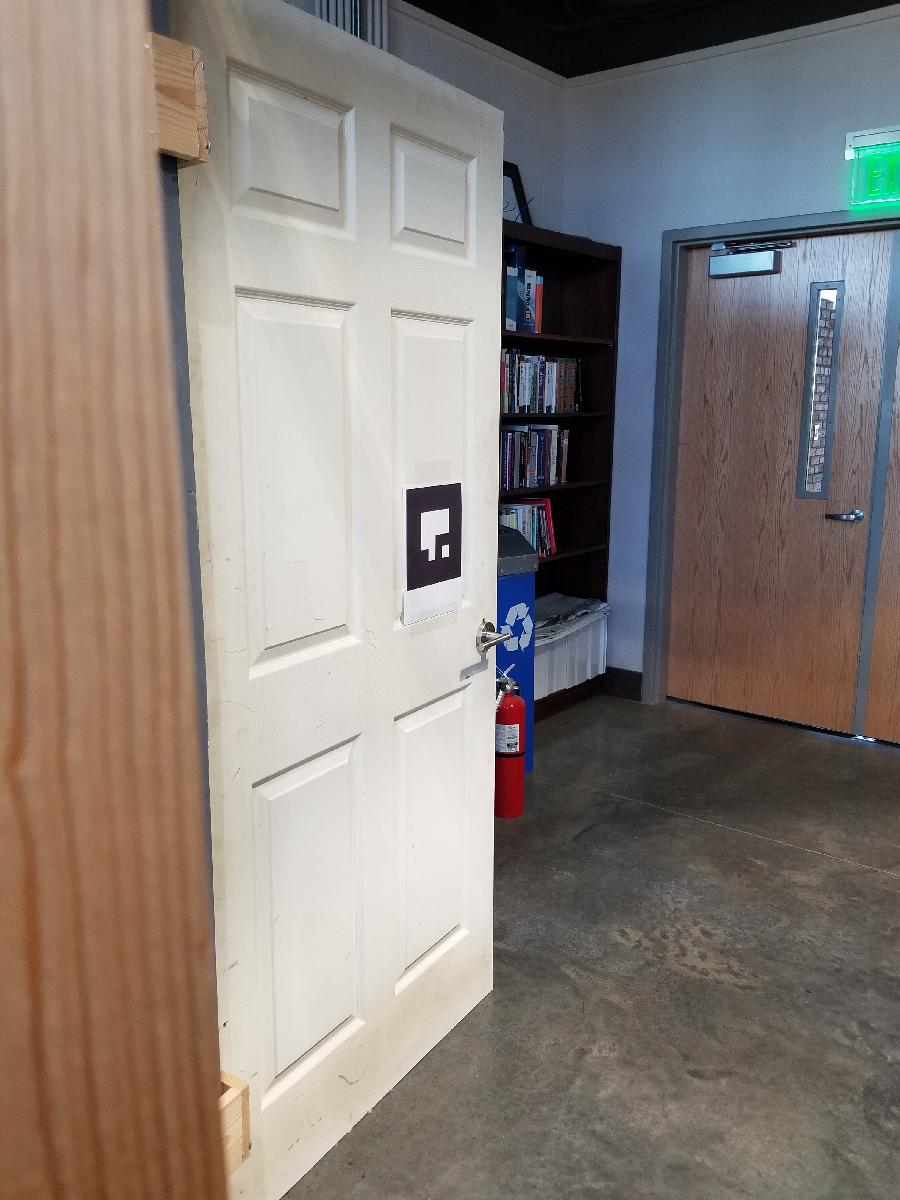door: (163, 1, 505, 1200)
doorHandle: (473, 620, 516, 663)
